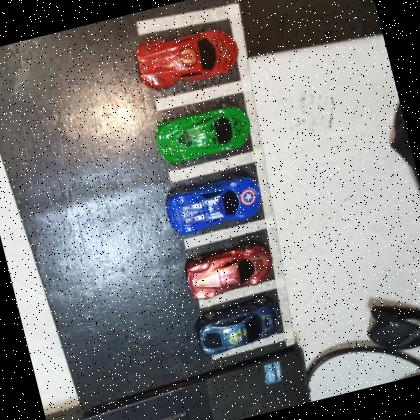Car: (128, 17, 243, 96), (148, 96, 256, 170), (159, 168, 268, 238), (190, 291, 288, 360), (179, 236, 278, 303)
